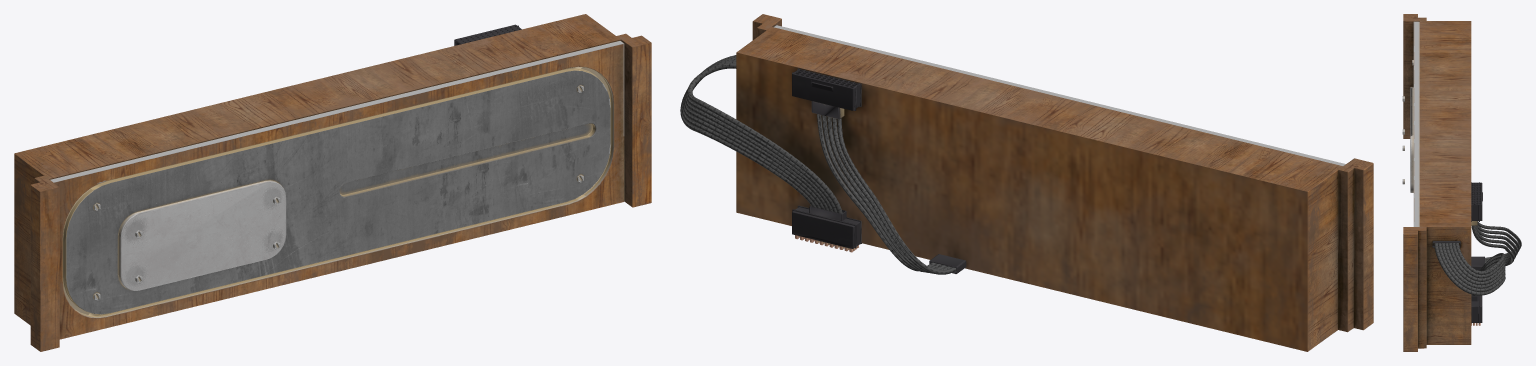
Rendered from Panel_2.fbx.
The picture shows the model from 3 angles, left to right: view 1: azimuth 30°, elevation 25°; view 2: azimuth 150°, elevation 25°; view 3: azimuth 270°, elevation 25°; orthographic projection. The views are drawn at different scales.
Parts seen in each view (by area): view 1: Metal_Part_S; view 2: Metal_Part_S; view 3: Metal_Part_S.
Part boxes in pixels (<box>): Metal_Part_S: <box>14,14,651,351</box>; Metal_Part_S: <box>680,14,1373,351</box>; Metal_Part_S: <box>1402,14,1521,351</box>.
Bounding box in the file's own units: 40.67 × 9.99 × 8.81.
Materials: 1 (1 with a texture image).
